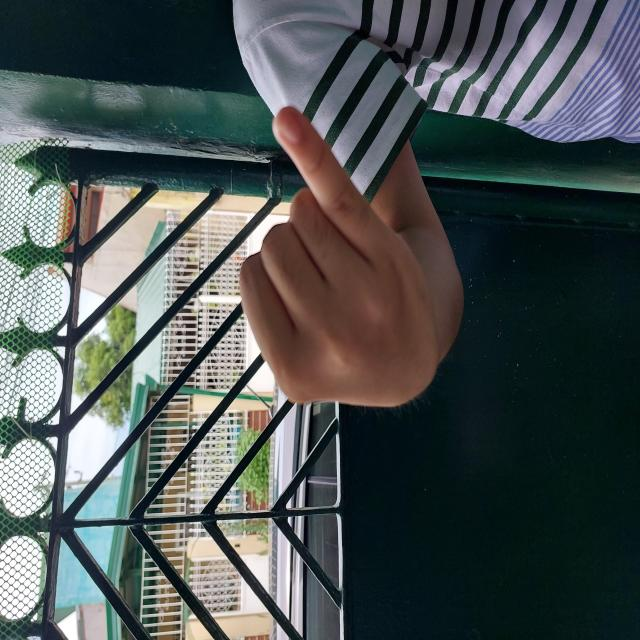J: (189, 82, 472, 442)
